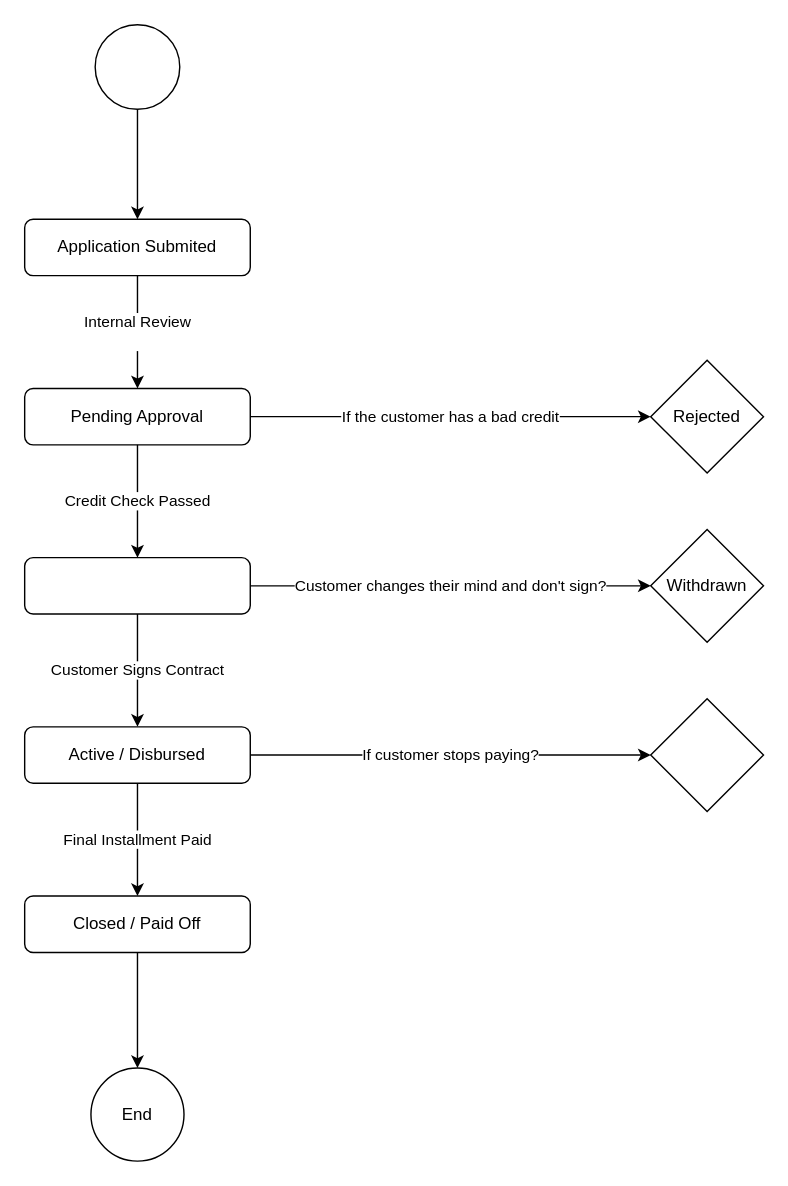
The diagram is 788 pixels wide and 1186 high, and some of its shapes have lost their labels. Each missing label, with the centre of its shape:
"Approved" goes at [136,585].
"Default / Delinquent" goes at [706,754].
"Start" goes at [137,66].
